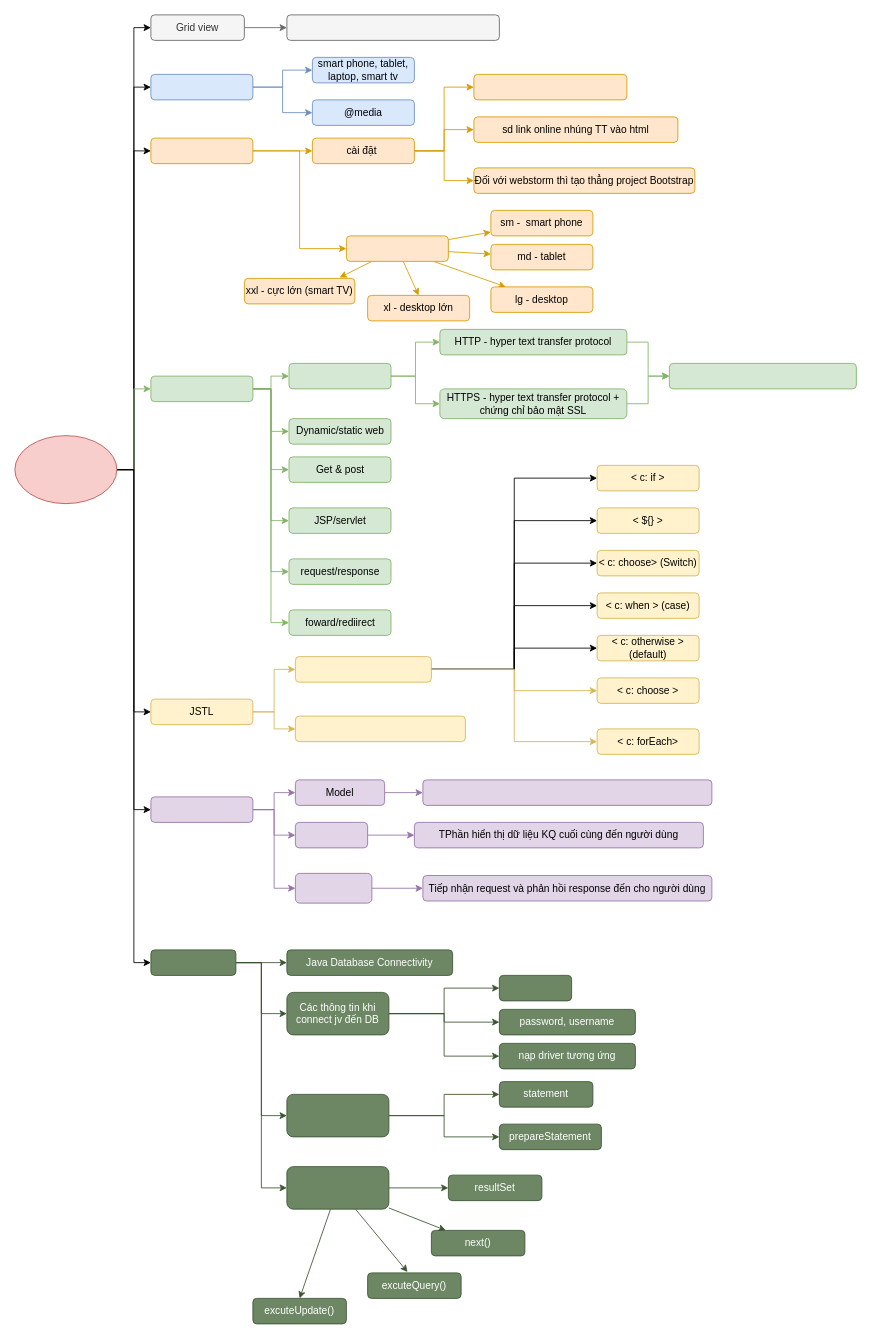
Some shapes in this 871 by 1339 pixel diagram are drawn without their labels. Each missing label, with the centre of its shape:
"Bootstrap" goes at point (201, 150).
"Controller" goes at point (333, 888).
"các thẻ thường dùng" goes at point (380, 728).
"Cách thực thuy truy vấn ở jv đến DB" goes at point (337, 1115).
"Có nv k/tra DL hợp lệ và tính toán, xử lý nghiệp vụ" goes at point (567, 792).
"Download css, jss từ trang chủ" goes at point (550, 87).
"Float, clear, box-sizing" goes at point (392, 27).
"HTTP" goes at point (201, 388).
"HTTP/HTTPS" goes at point (339, 376).
"Java web back end" goes at point (65, 469).
"JDBC" goes at point (193, 962).
"JSP Standard Tag Library" goes at point (363, 669).
"MVC" goes at point (201, 809).
"Responsive web" goes at point (201, 87).
"Thiết bị hỗ trợ" goes at point (397, 248).
"use" goes at point (535, 988).
"View" goes at point (331, 835).
"Xử lý kq ở jv sau khi truy vấn đến DB" goes at point (337, 1187).
"Đều là giao thức truyền tải siêu văn bản" goes at point (762, 376).
